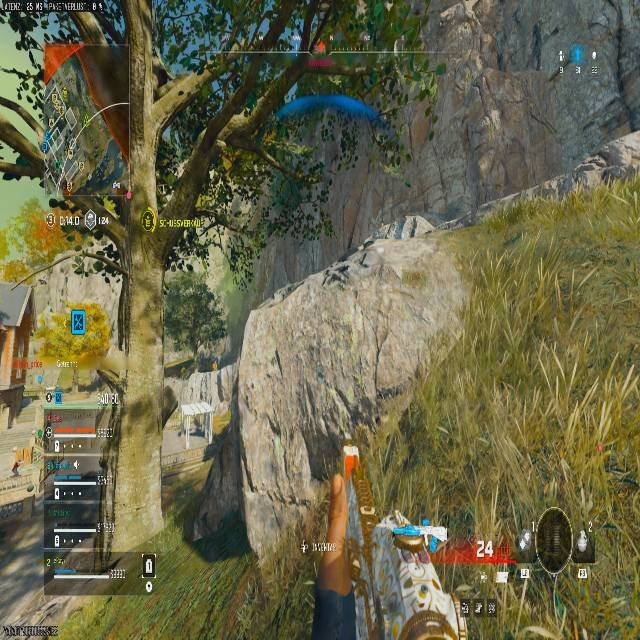player: (324, 259, 350, 289)
